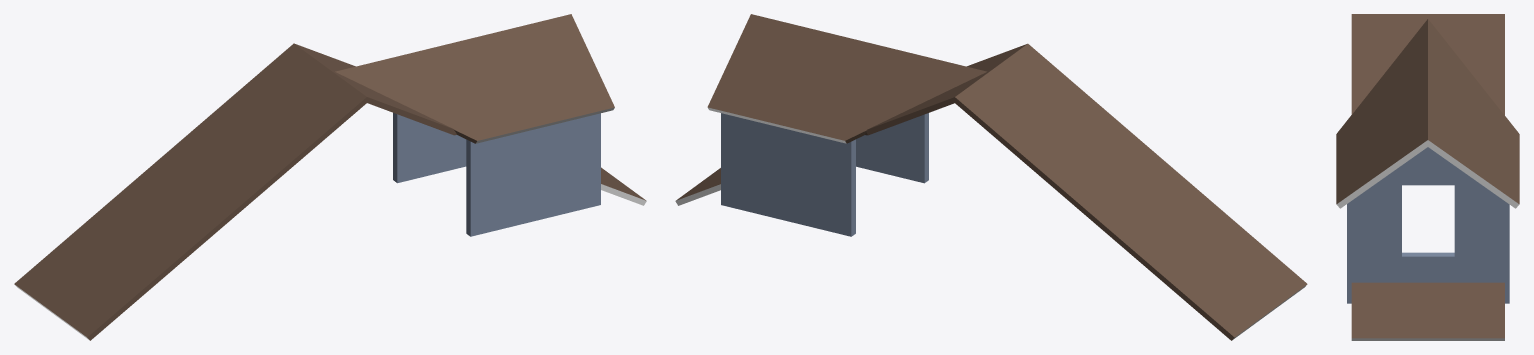
Rendered from Roof4_C2_06.fbx.
The picture shows the model from 3 angles, left to right: view 1: azimuth 30°, elevation 25°; view 2: azimuth 150°, elevation 25°; view 3: azimuth 270°, elevation 25°; orthographic projection. The views are drawn at different scales.
Parts seen in each view (by area): view 1: Roof4_C2_06; view 2: Roof4_C2_06; view 3: Roof4_C2_06.
Part boxes in pixels (x1,y1,x2,y2): Roof4_C2_06: (14,14,646,340); Roof4_C2_06: (675,14,1307,340); Roof4_C2_06: (1336,14,1519,340).
Size of the model in its own units: 1105 by 333 by 298.
